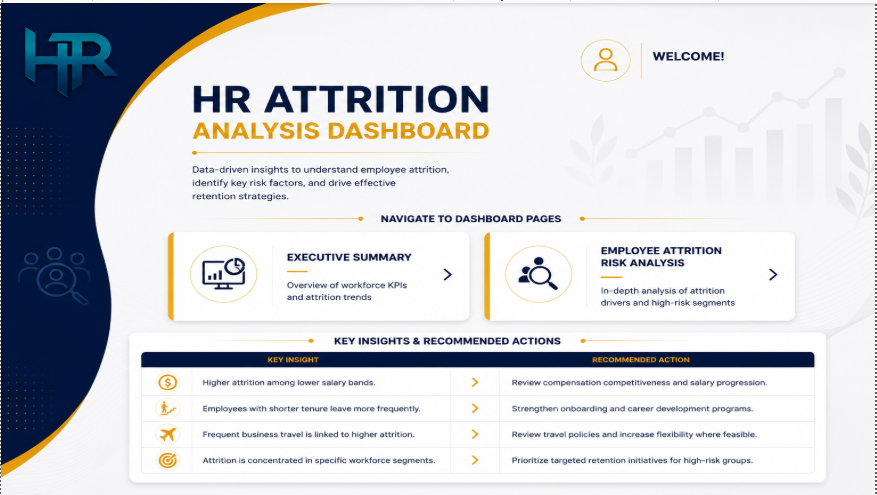

Layout of this report page (visuals, bound fields, positions):
{"tool":"powerbi","page":{"name":"Home Page","canvas":[1280,720],"ordinal":0},"visuals":[{"type":"actionButton","box":[0,0,1280.5,720],"z":0},{"type":"actionButton","box":[248.8,339.5,437.6,128.8],"z":1000},{"type":"actionButton","box":[715.6,336.6,450.7,128.8],"z":2000}]}

Visuals, with their boxes in screenshot pixels (x1, y1, x2, y2), scaled from the page's 1280x720 canvas onto the 877x495 screenshot:
actionButton: (left=0, top=0, right=876, bottom=494)
actionButton: (left=170, top=233, right=470, bottom=322)
actionButton: (left=490, top=231, right=799, bottom=320)
